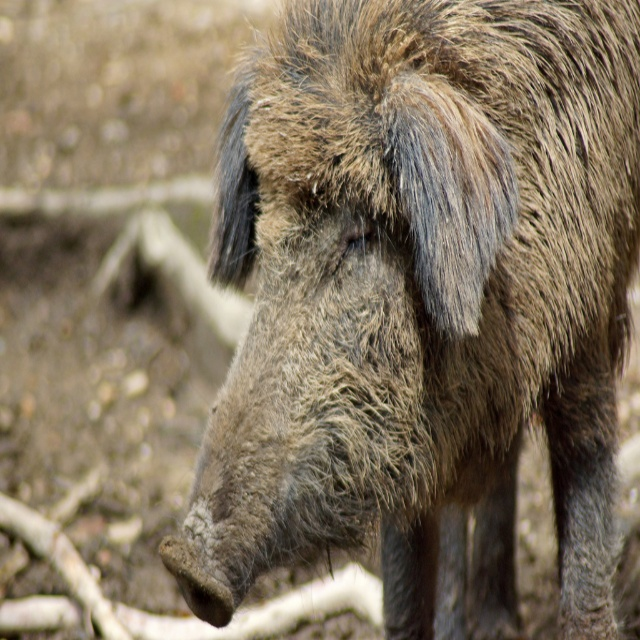Pig: (157, 0, 640, 640)
